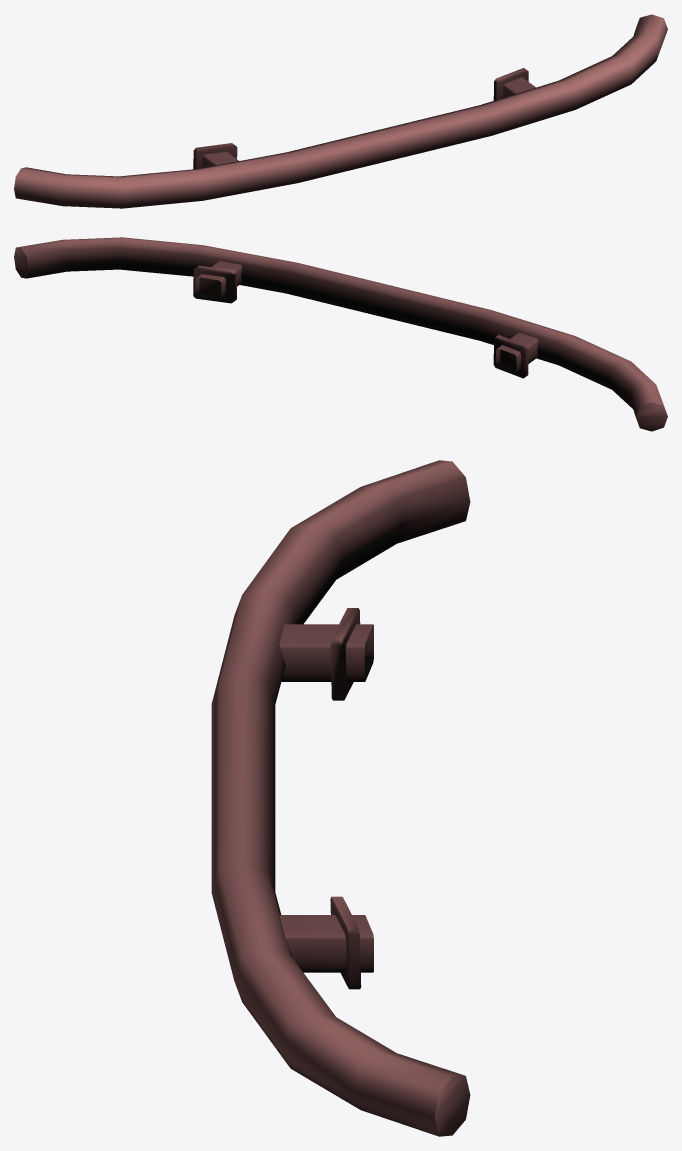
Rendered from MX5_FB_BashBar_Trim.fbx.
3 renders of one model, top to bottom at view 1: azimuth 30°, elevation 25°; view 2: azimuth 150°, elevation 25°; view 3: azimuth 270°, elevation 25°, orthographic. The views are drawn at different scales.
Parts seen in each view (by area): view 1: MX5_FB_BashBar_Trim; view 2: MX5_FB_BashBar_Trim; view 3: MX5_FB_BashBar_Trim.
Part boxes in pixels (bbox=[...]): MX5_FB_BashBar_Trim: bbox=[14, 14, 667, 208]; MX5_FB_BashBar_Trim: bbox=[14, 237, 667, 431]; MX5_FB_BashBar_Trim: bbox=[211, 460, 470, 1136].
Size of the model in its own units: 139 by 6.27 by 23.86.
